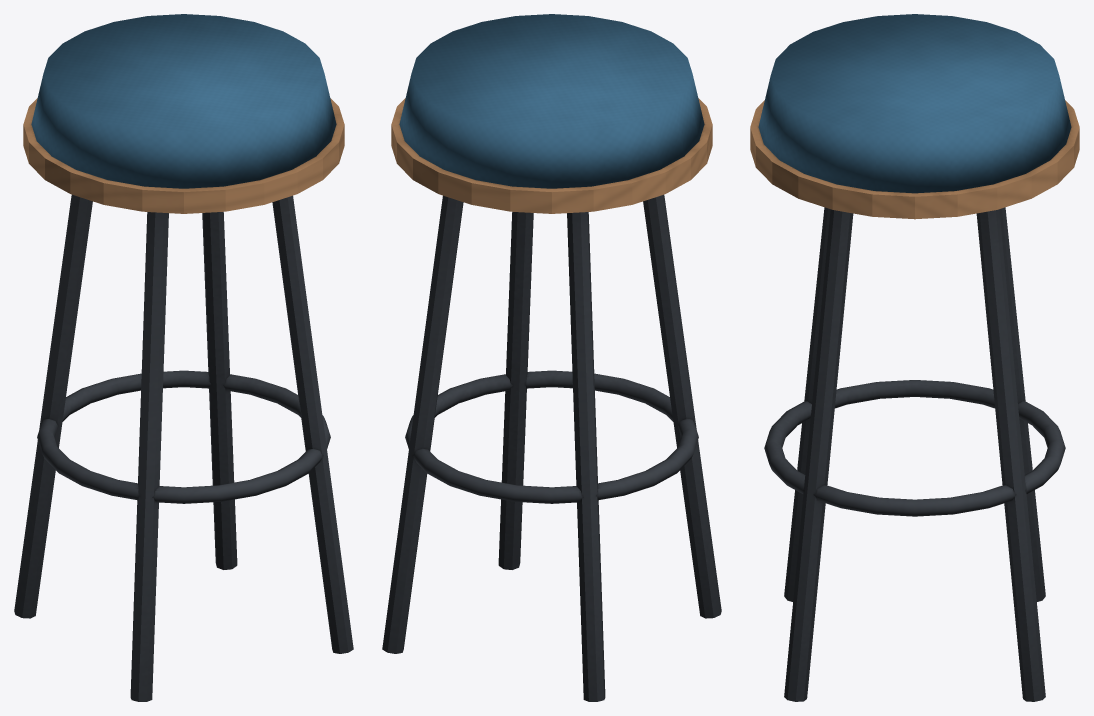
The model's file is bar_stool.glb.
3 renders of one model, left to right at view 1: azimuth 30°, elevation 25°; view 2: azimuth 150°, elevation 25°; view 3: azimuth 270°, elevation 25°, orthographic. The views are drawn at different scales.
Parts seen in each view (by area): view 1: bar_stool; view 2: bar_stool; view 3: bar_stool.
Part boxes in pixels (<box>): bar_stool: <box>14,14,353,701</box>; bar_stool: <box>382,14,721,701</box>; bar_stool: <box>750,14,1079,701</box>.
Size of the model in its own units: 0.4 by 0.7688 by 0.4.
Materials: 3 (3 with a texture image).
